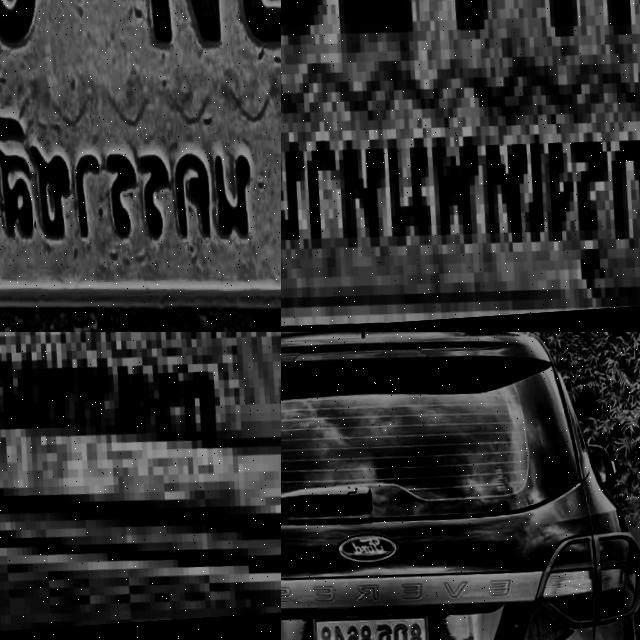license-plate: (281, 0, 640, 332), (0, 0, 281, 332), (0, 332, 281, 575), (297, 607, 426, 640)
